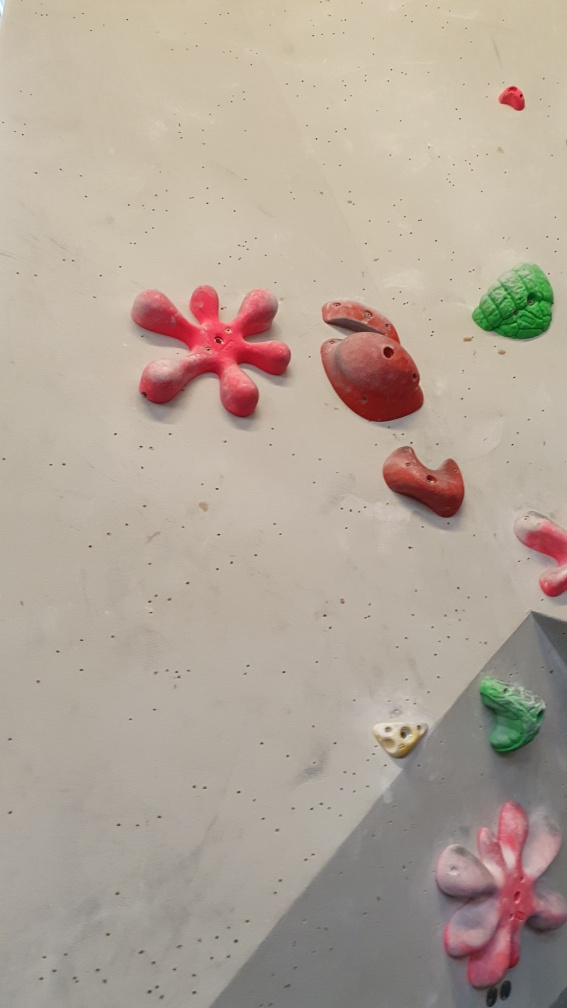Hand Start: (496, 979, 513, 1000), (481, 987, 499, 1005)
Jug: (472, 257, 553, 343)
Octopus Pinch: (432, 796, 563, 989), (130, 282, 294, 418)
Sloper: (331, 330, 423, 421)
